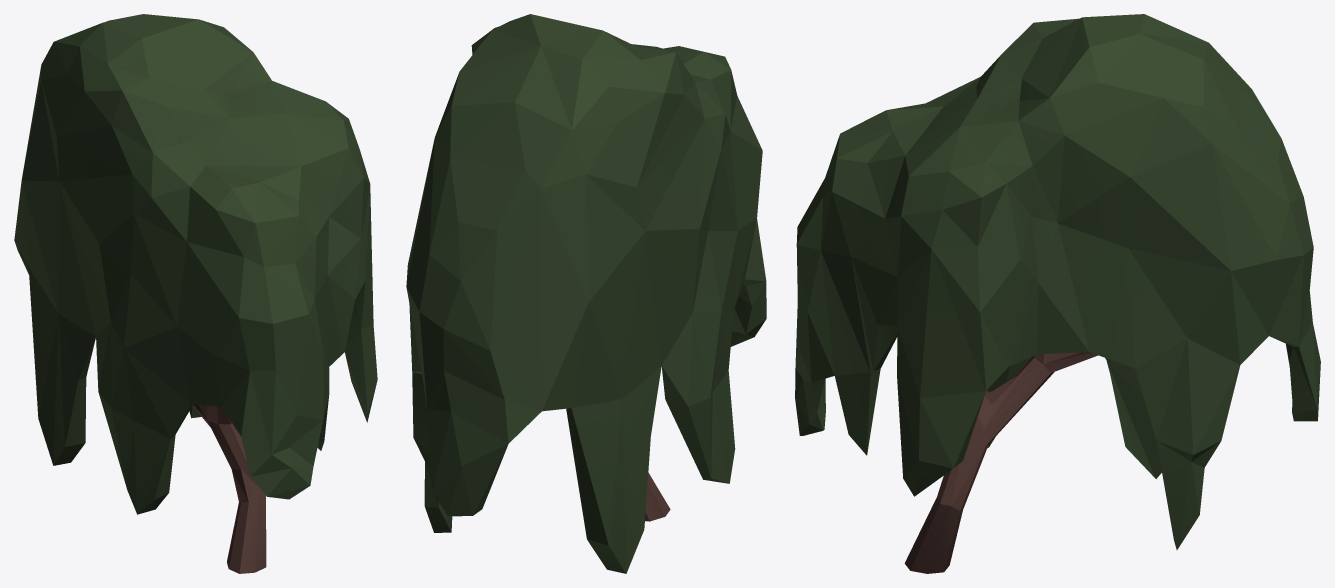
File: tree-willow-1.glb
The picture shows the model from 3 angles, left to right: view 1: azimuth 30°, elevation 25°; view 2: azimuth 150°, elevation 25°; view 3: azimuth 270°, elevation 25°; orthographic projection. The views are drawn at different scales.
Visible parts, largest first — view 1: tree-willow-1; view 2: tree-willow-1; view 3: tree-willow-1.
Part boxes in pixels (left/top/right/bottom): tree-willow-1: left=14, top=14, right=377, bottom=573; tree-willow-1: left=406, top=14, right=766, bottom=573; tree-willow-1: left=795, top=14, right=1320, bottom=573.
Size of the model in its own units: 3.06 by 6 by 5.38.
